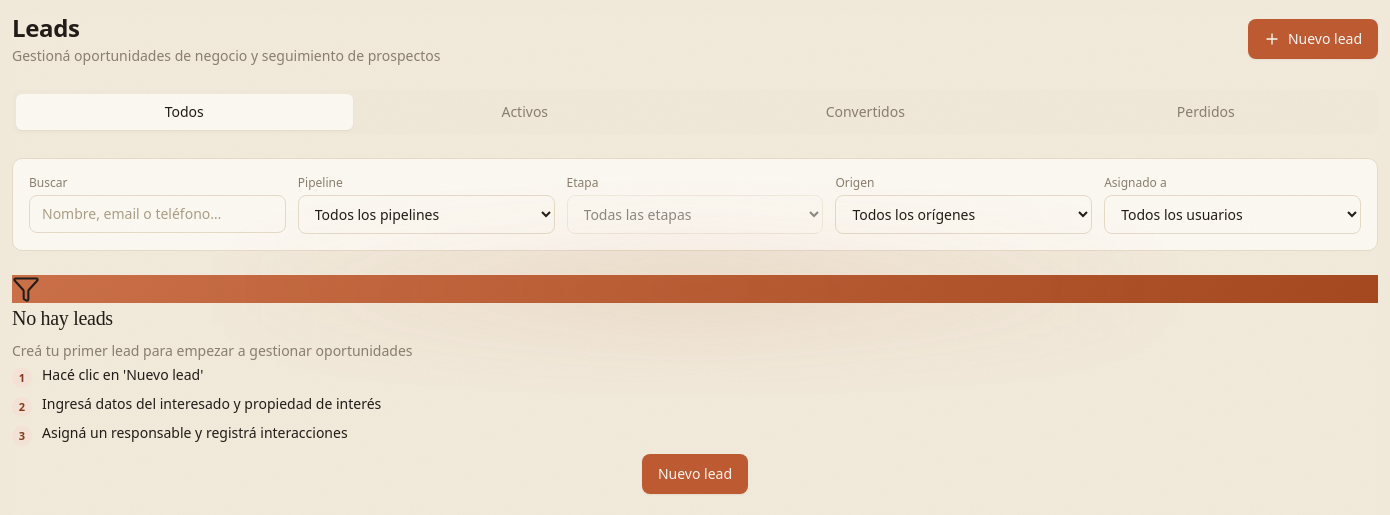
LeadList › sin resultados con filtros muestra el vacío filtrado y limpia
Expected: the text "No hay leads" is shown, [12,307,113,329]
Step 1. Click the button "Perdidos" → point(1206, 112), box [1038,94,1374,130]
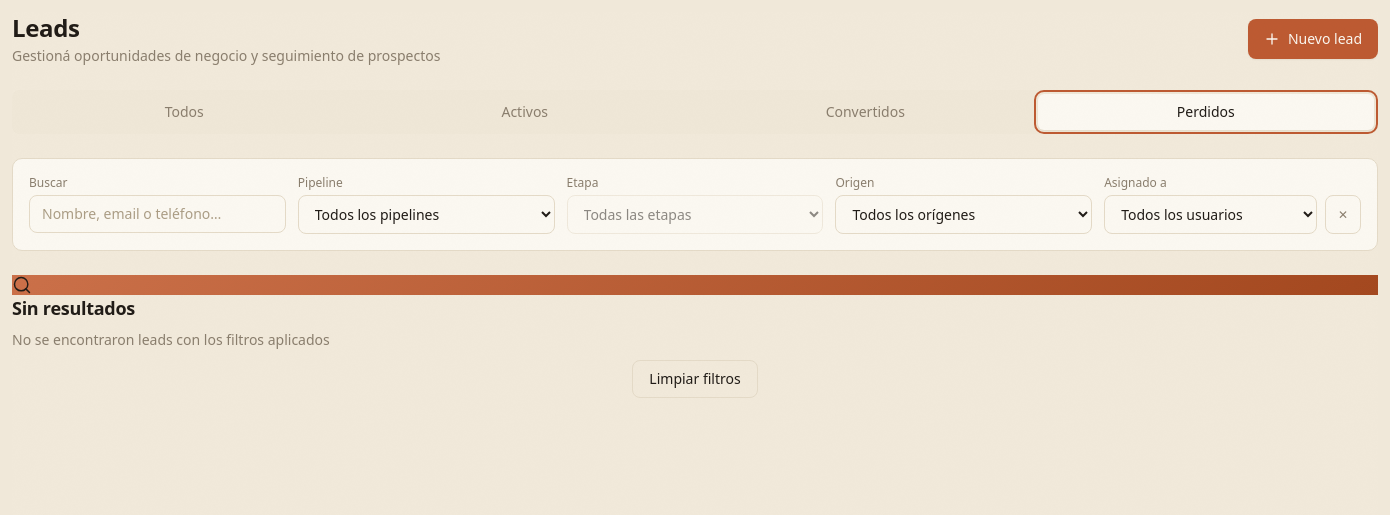
Result: the text "Sin resultados" is shown at [12,296,135,320]
Step 2. Click the button "Limpiar filtros" → point(695, 379), box [632,360,758,398]
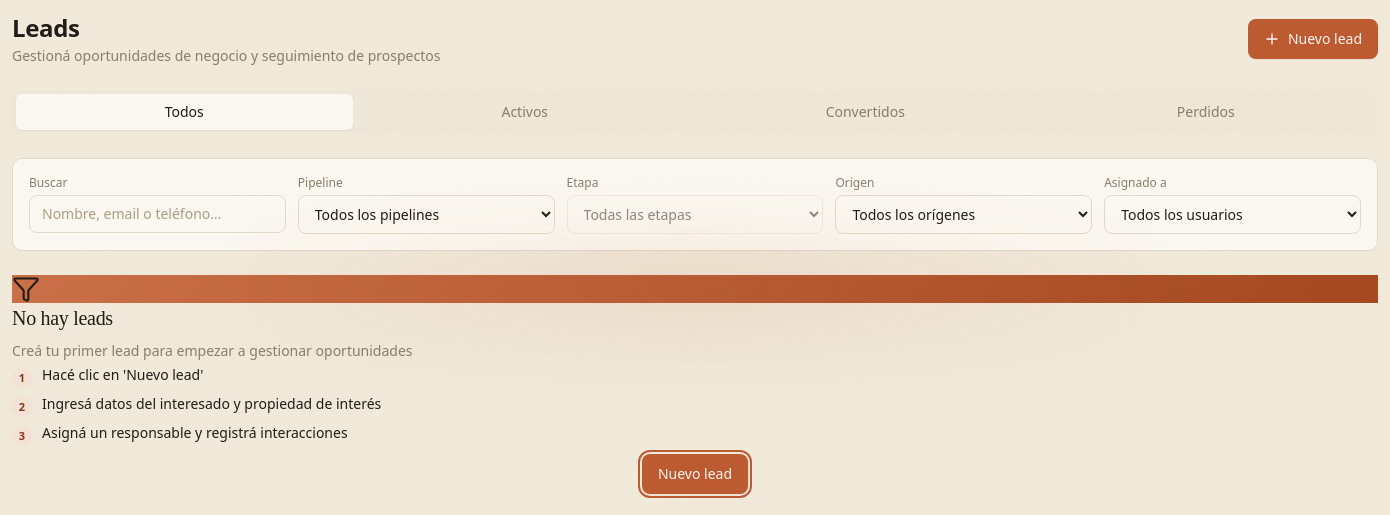
Result: the text "No hay leads" is shown at [12,307,113,329]
